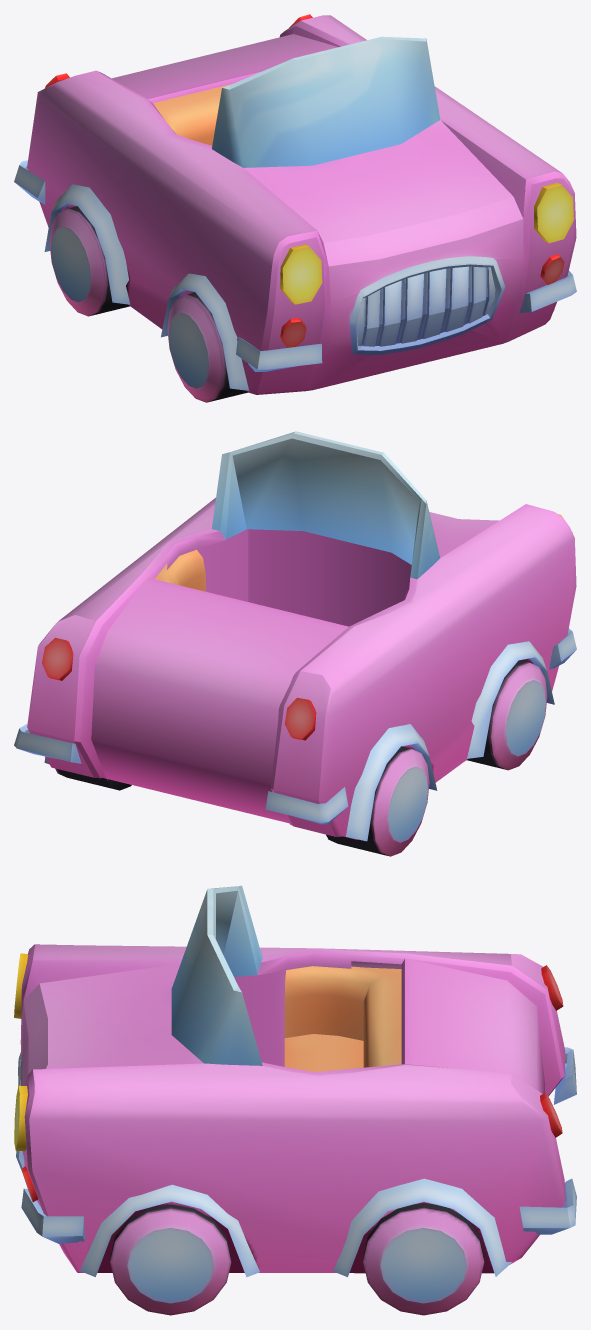
The model's file is barbie.fbx.
3 views of the same model, one above another, from view 1: azimuth 30°, elevation 25°; view 2: azimuth 150°, elevation 25°; view 3: azimuth 270°, elevation 25° (orthographic). The views are drawn at different scales.
Visible parts, largest first — view 1: Cube.077; view 2: Cube.077; view 3: Cube.077.
Boxes of the visible parts, x1,y1,x2,y2 form: Cube.077: (14, 14, 576, 402); Cube.077: (14, 431, 576, 856); Cube.077: (14, 885, 576, 1315).
Size of the model in its own units: 2.01 by 1.69 by 2.71.
